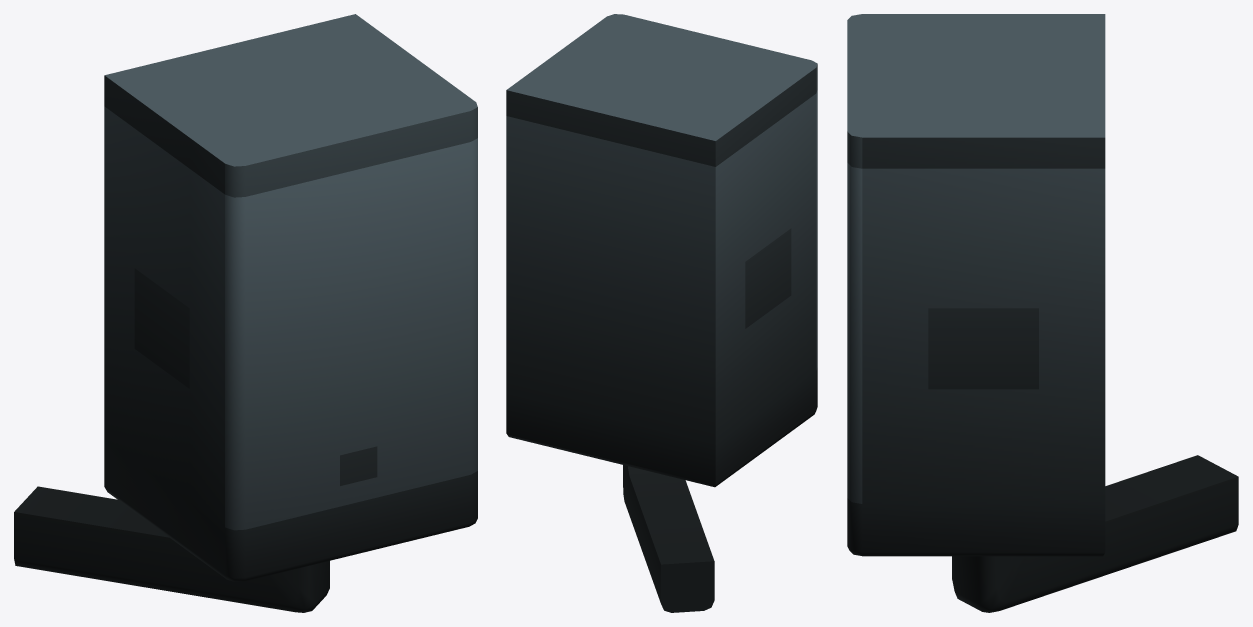
Rendered from Speaker.fbx.
3 views of the same model, side by side, from view 1: azimuth 30°, elevation 25°; view 2: azimuth 150°, elevation 25°; view 3: azimuth 270°, elevation 25° (orthographic). The views are drawn at different scales.
Visible parts, largest first — view 1: Speaker; view 2: Speaker; view 3: Speaker.
Boxes of the visible parts, box(x1,y1,x2,y2) form: Speaker: box(14, 14, 477, 612); Speaker: box(506, 14, 817, 612); Speaker: box(847, 14, 1238, 612).
Bounding box in the file's own units: 74.6 × 124 × 84.33.
